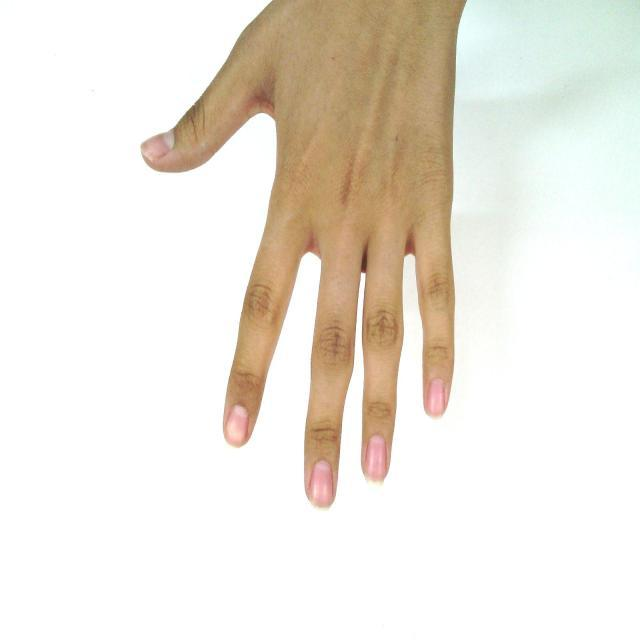Fingernail: (310, 461, 332, 507), (365, 435, 386, 483), (142, 132, 175, 159), (226, 405, 248, 444), (428, 379, 444, 416)
